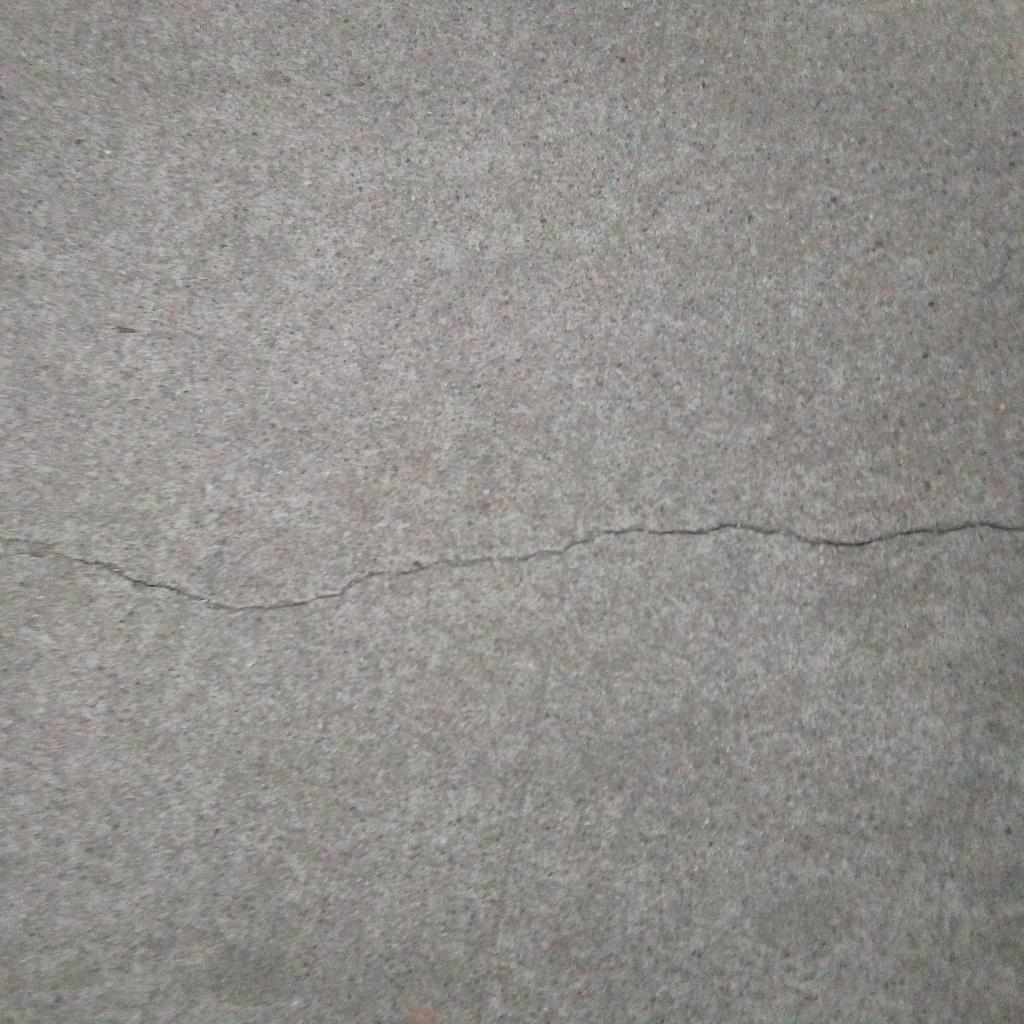Crack: (1, 518, 1024, 615)
